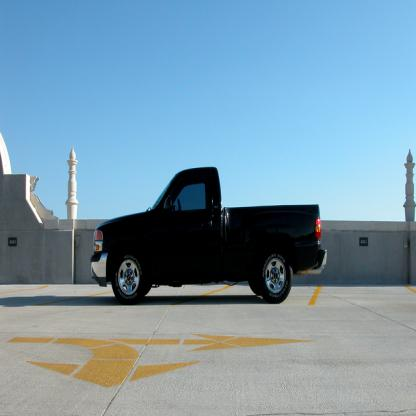Truck: (90, 166, 327, 306)
